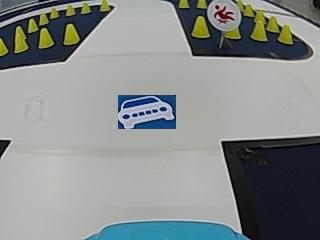cone: (191, 16, 210, 38), (250, 18, 267, 41), (63, 23, 79, 45), (14, 26, 26, 52), (277, 24, 292, 44), (38, 28, 52, 48), (266, 15, 279, 32), (225, 27, 240, 39), (27, 17, 37, 33), (0, 37, 8, 56), (80, 1, 91, 14), (99, 0, 110, 12), (65, 3, 75, 16), (49, 6, 59, 19), (38, 12, 48, 25), (178, 0, 189, 8)
tumble: (210, 2, 240, 29)
